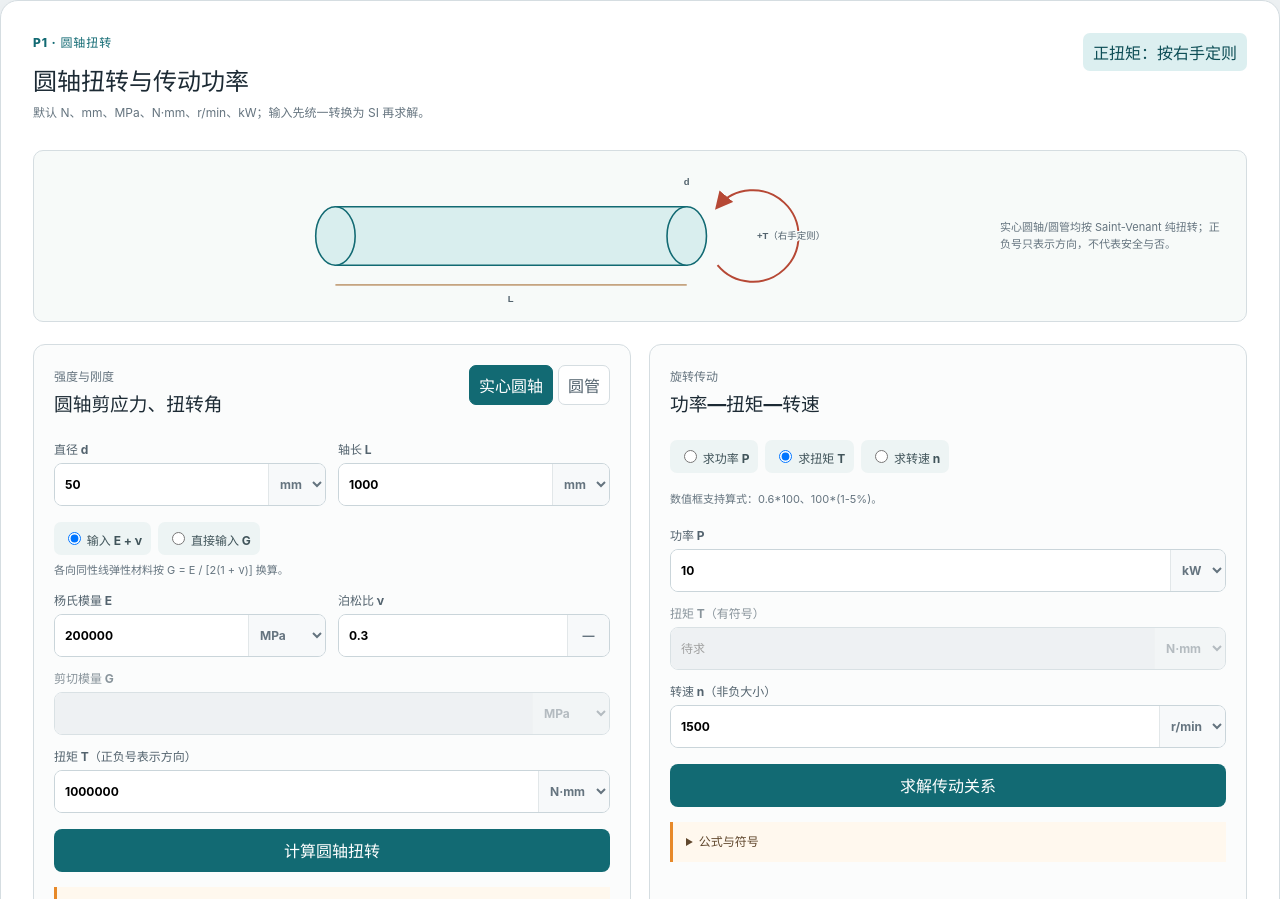
Scenario: TorsionCalculator › calculates default power relation
Click the button with class "calculate" showing "求解传动关系" at (948, 785), box [670,764,1226,806]
(page scrolled)
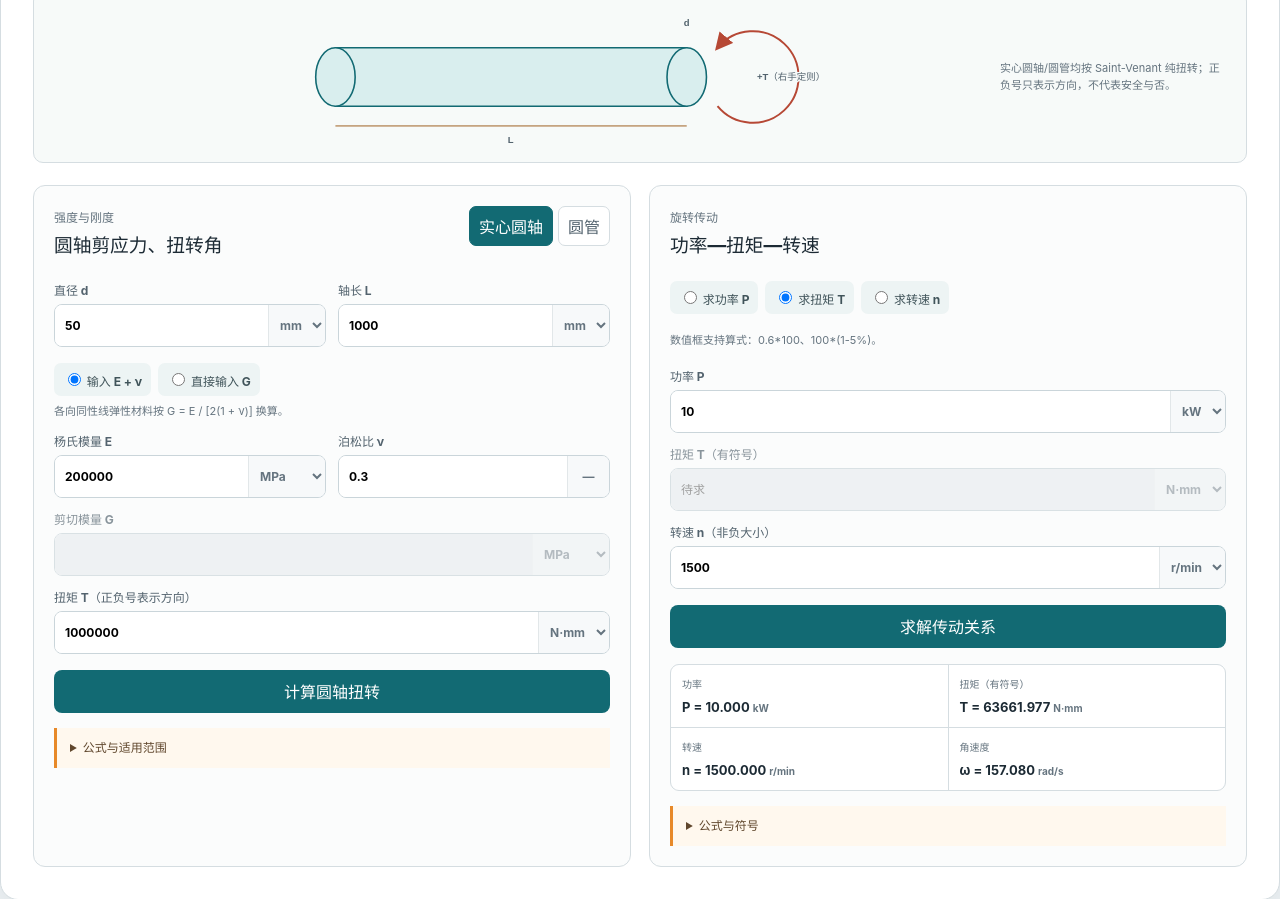
Check: the element with test id "power-results" shows "63661.977", box [960,698,1053,714]
Check: the element with test id "power-results" shows "1500", box [682,762,769,778]
